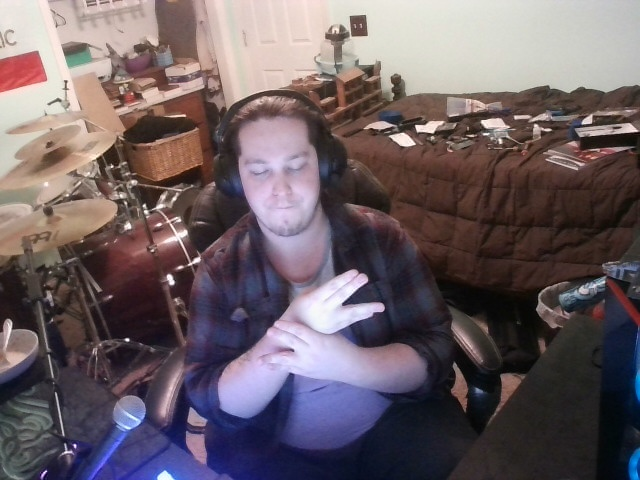world: (225, 259, 400, 400)
